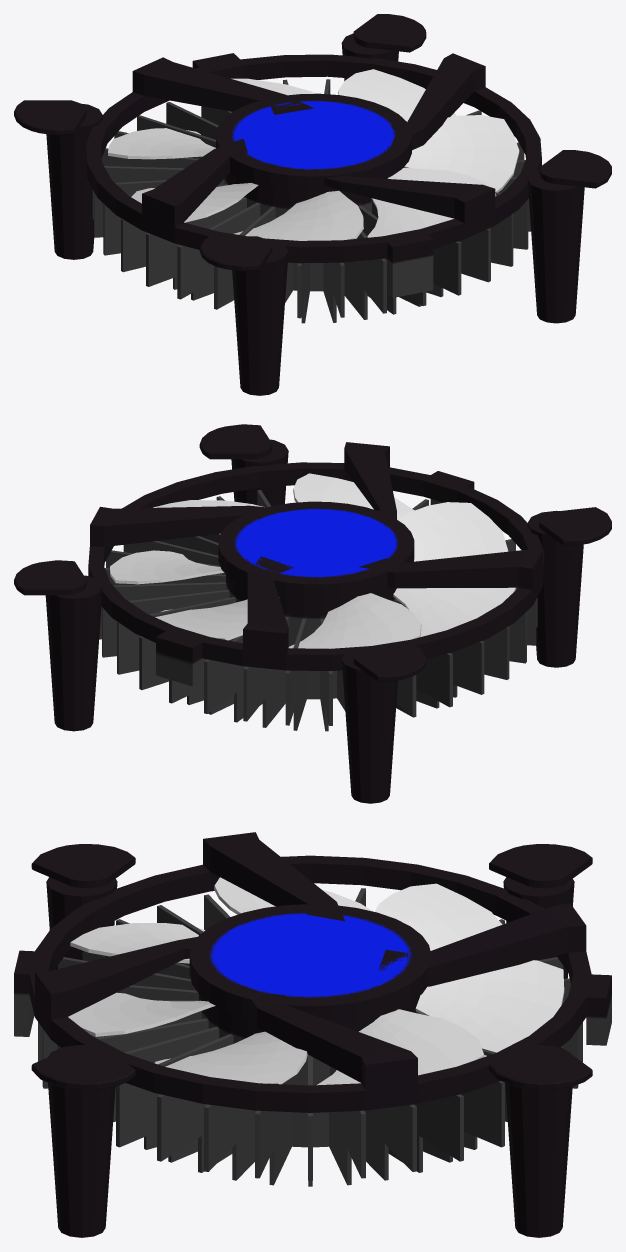
File: cpu-fan.fbx
The picture shows the model from 3 angles, top to bottom: view 1: azimuth 30°, elevation 25°; view 2: azimuth 150°, elevation 25°; view 3: azimuth 270°, elevation 25°; orthographic projection. The views are drawn at different scales.
Visible parts, largest first — view 1: 圓形.001, 圓柱體.001, fan.001; view 2: 圓形.001, 圓柱體.001, fan.001; view 3: 圓形.001, 圓柱體.001, fan.001.
Boxes of the visible parts, left/top/right/bottom form: 圓形.001: left=86, top=53, right=541, bottom=323; 圓柱體.001: left=14, top=14, right=611, bottom=395; fan.001: left=108, top=69, right=519, bottom=240; 圓形.001: left=88, top=442, right=544, bottom=731; 圓柱體.001: left=14, top=424, right=611, bottom=803; fan.001: left=110, top=473, right=515, bottom=648; 圓形.001: left=14, top=832, right=611, bottom=1186; 圓柱體.001: left=31, top=844, right=592, bottom=1237; fan.001: left=68, top=877, right=564, bottom=1085.
Bounding box in the file's own units: 207 × 76.2 × 218.
